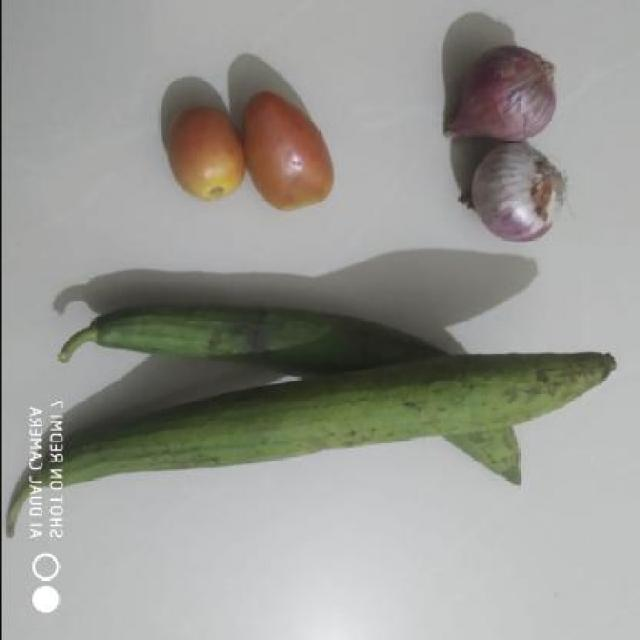Onion: (434, 48, 560, 152), (446, 150, 576, 244)
Sponge Gourd: (21, 282, 624, 524)
Tomato: (240, 88, 337, 208), (154, 97, 238, 208)
